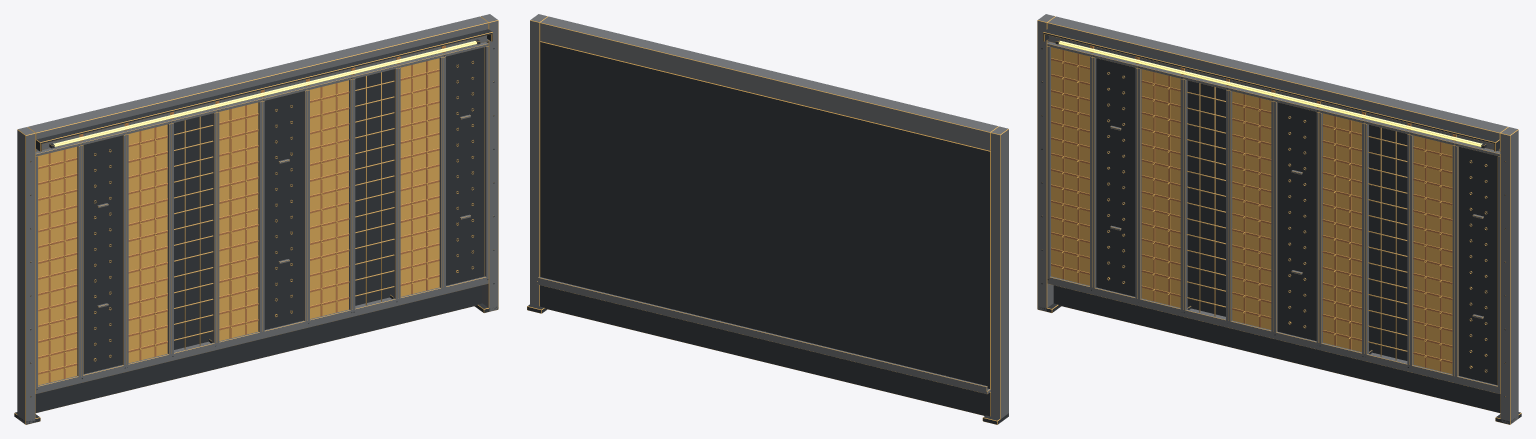
Rendered from inventory_wall.fbx.
3 renders of one model, left to right at view 1: azimuth 30°, elevation 25°; view 2: azimuth 150°, elevation 25°; view 3: azimuth 330°, elevation 25°, orthographic.
Parts seen in each view (by area): view 1: Mesh_Wall_Bays, Mesh_Wall_Surround, Mesh_Wall_Tray, Mesh_Wall_Header, Mesh_Wall_Lamp; view 2: Mesh_Wall_Surround, Mesh_Wall_Tray, Mesh_Wall_Header; view 3: Mesh_Wall_Bays, Mesh_Wall_Surround, Mesh_Wall_Tray, Mesh_Wall_Header, Mesh_Wall_Lamp.
Part boxes in pixels (<box>): Mesh_Wall_Bays: <box>35,42,488,390</box>; Mesh_Wall_Surround: <box>14,14,498,424</box>; Mesh_Wall_Tray: <box>35,276,488,412</box>; Mesh_Wall_Header: <box>27,16,492,151</box>; Mesh_Wall_Lamp: <box>49,39,480,148</box>; Mesh_Wall_Surround: <box>527,14,1008,424</box>; Mesh_Wall_Tray: <box>537,277,990,416</box>; Mesh_Wall_Header: <box>540,16,998,150</box>; Mesh_Wall_Bays: <box>1047,42,1500,390</box>; Mesh_Wall_Surround: <box>1037,14,1521,424</box>; Mesh_Wall_Tray: <box>1047,276,1500,412</box>; Mesh_Wall_Header: <box>1043,16,1508,151</box>; Mesh_Wall_Lamp: <box>1055,39,1486,148</box>.
Size of the model in its own units: 564 by 330 by 33.
